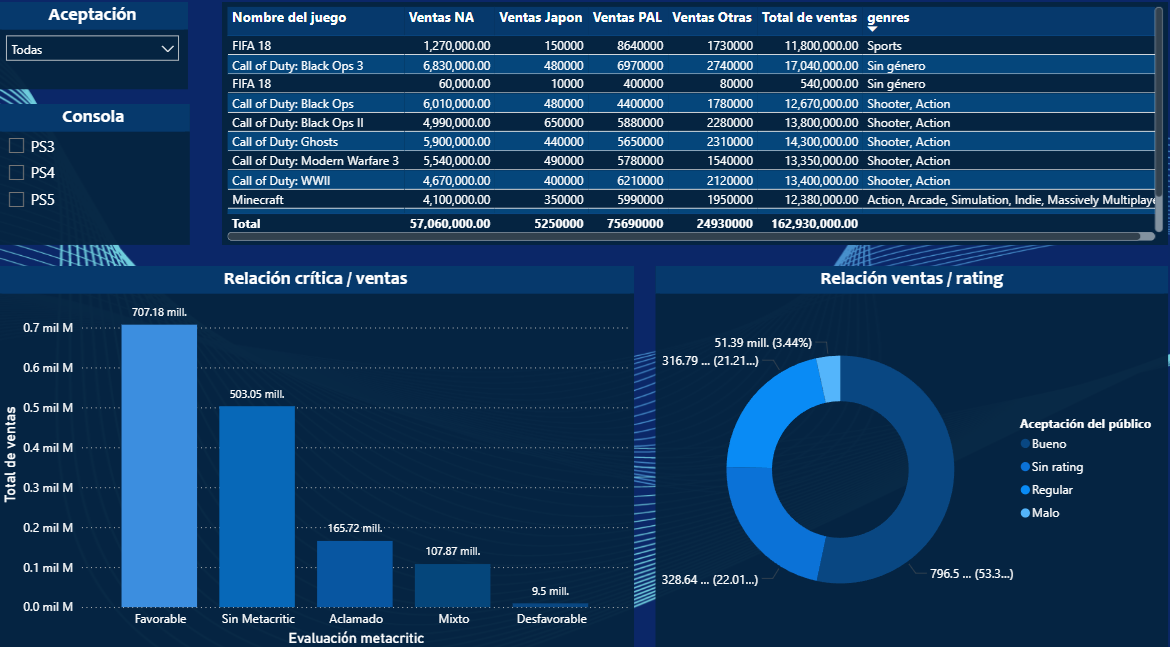

What the dashboard file says about the page in this screenshot:
{"tool":"powerbi","page":{"name":"Crítica","canvas":[1280,720],"ordinal":2},"visuals":[{"type":"clusteredColumnChart","title":"Relación crítica / ventas","fields":{"Category":["ps_sales_2025.Metacritic_m"],"Y":["ps_sales_2025.Total Ventas"]},"box":[0,301.2,696.3,419.4],"z":0},{"type":"donutChart","title":"Relación ventas / rating","fields":{"Y":["ps_sales_2025.Total Ventas"],"Category":["ps_sales_2025.rating_r"]},"box":[718.9,301.2,560.3,419.4],"z":1000},{"type":"tableEx","fields":{"Values":["ps_sales_2025.Name","ps_sales_2025.Ventas NA","ps_sales_2025.Ventas Japon","ps_sales_2025.Ventas PAL","ps_sales_2025.Ventas Otras","ps_sales_2025.Total Ventas","ps_sales_2025.genres"]},"box":[246.1,13,1033.1,265.6],"z":2000},{"type":"slicer","title":"Consola","fields":{"Values":["ps_sales_2025.Console"]},"box":[0,124.7,210.5,153.8],"z":3000},{"type":"slicer","title":"Aceptación","fields":{"Values":["ps_sales_2025.Metacritic_m"]},"box":[0,13,208.9,95.5],"z":4000}]}

Visuals, with their boxes in screenshot pixels (x1, y1, x2, y2), scaled from the page's 1280x720 canvas onto the 1170x648 screenshot:
"Relación crítica / ventas" clusteredColumnChart: box(0, 271, 636, 647)
"Relación ventas / rating" donutChart: box(657, 271, 1169, 647)
tableEx - ps_sales_2025.Name x ps_sales_2025.Ventas NA: box(225, 12, 1169, 251)
"Consola" slicer: box(0, 112, 192, 251)
"Aceptación" slicer: box(0, 12, 191, 98)
